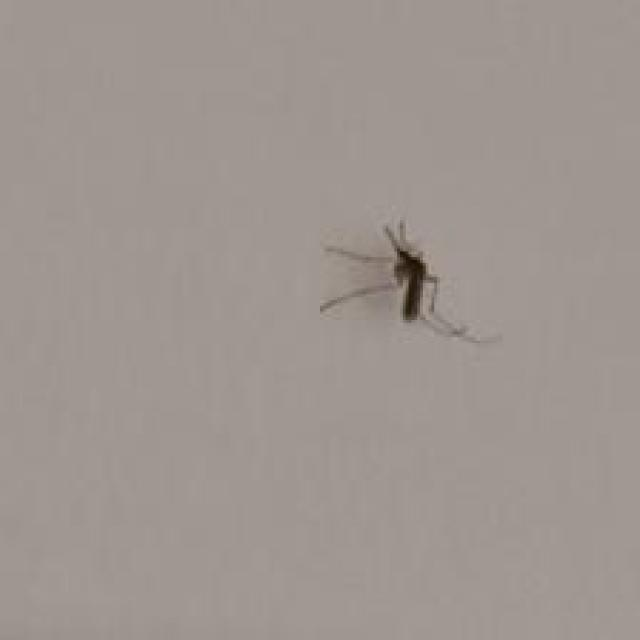Culex: (318, 217, 502, 346)
